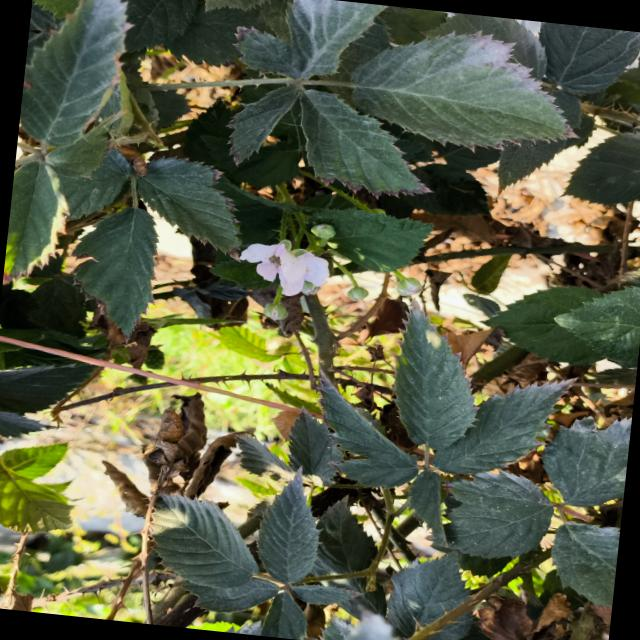boton: (263, 286, 287, 320), (393, 270, 421, 295), (311, 223, 335, 239), (347, 286, 368, 300), (301, 281, 319, 295)
flor: (240, 241, 328, 296)
